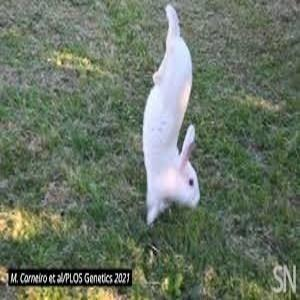rabbit: (143, 4, 199, 224)
